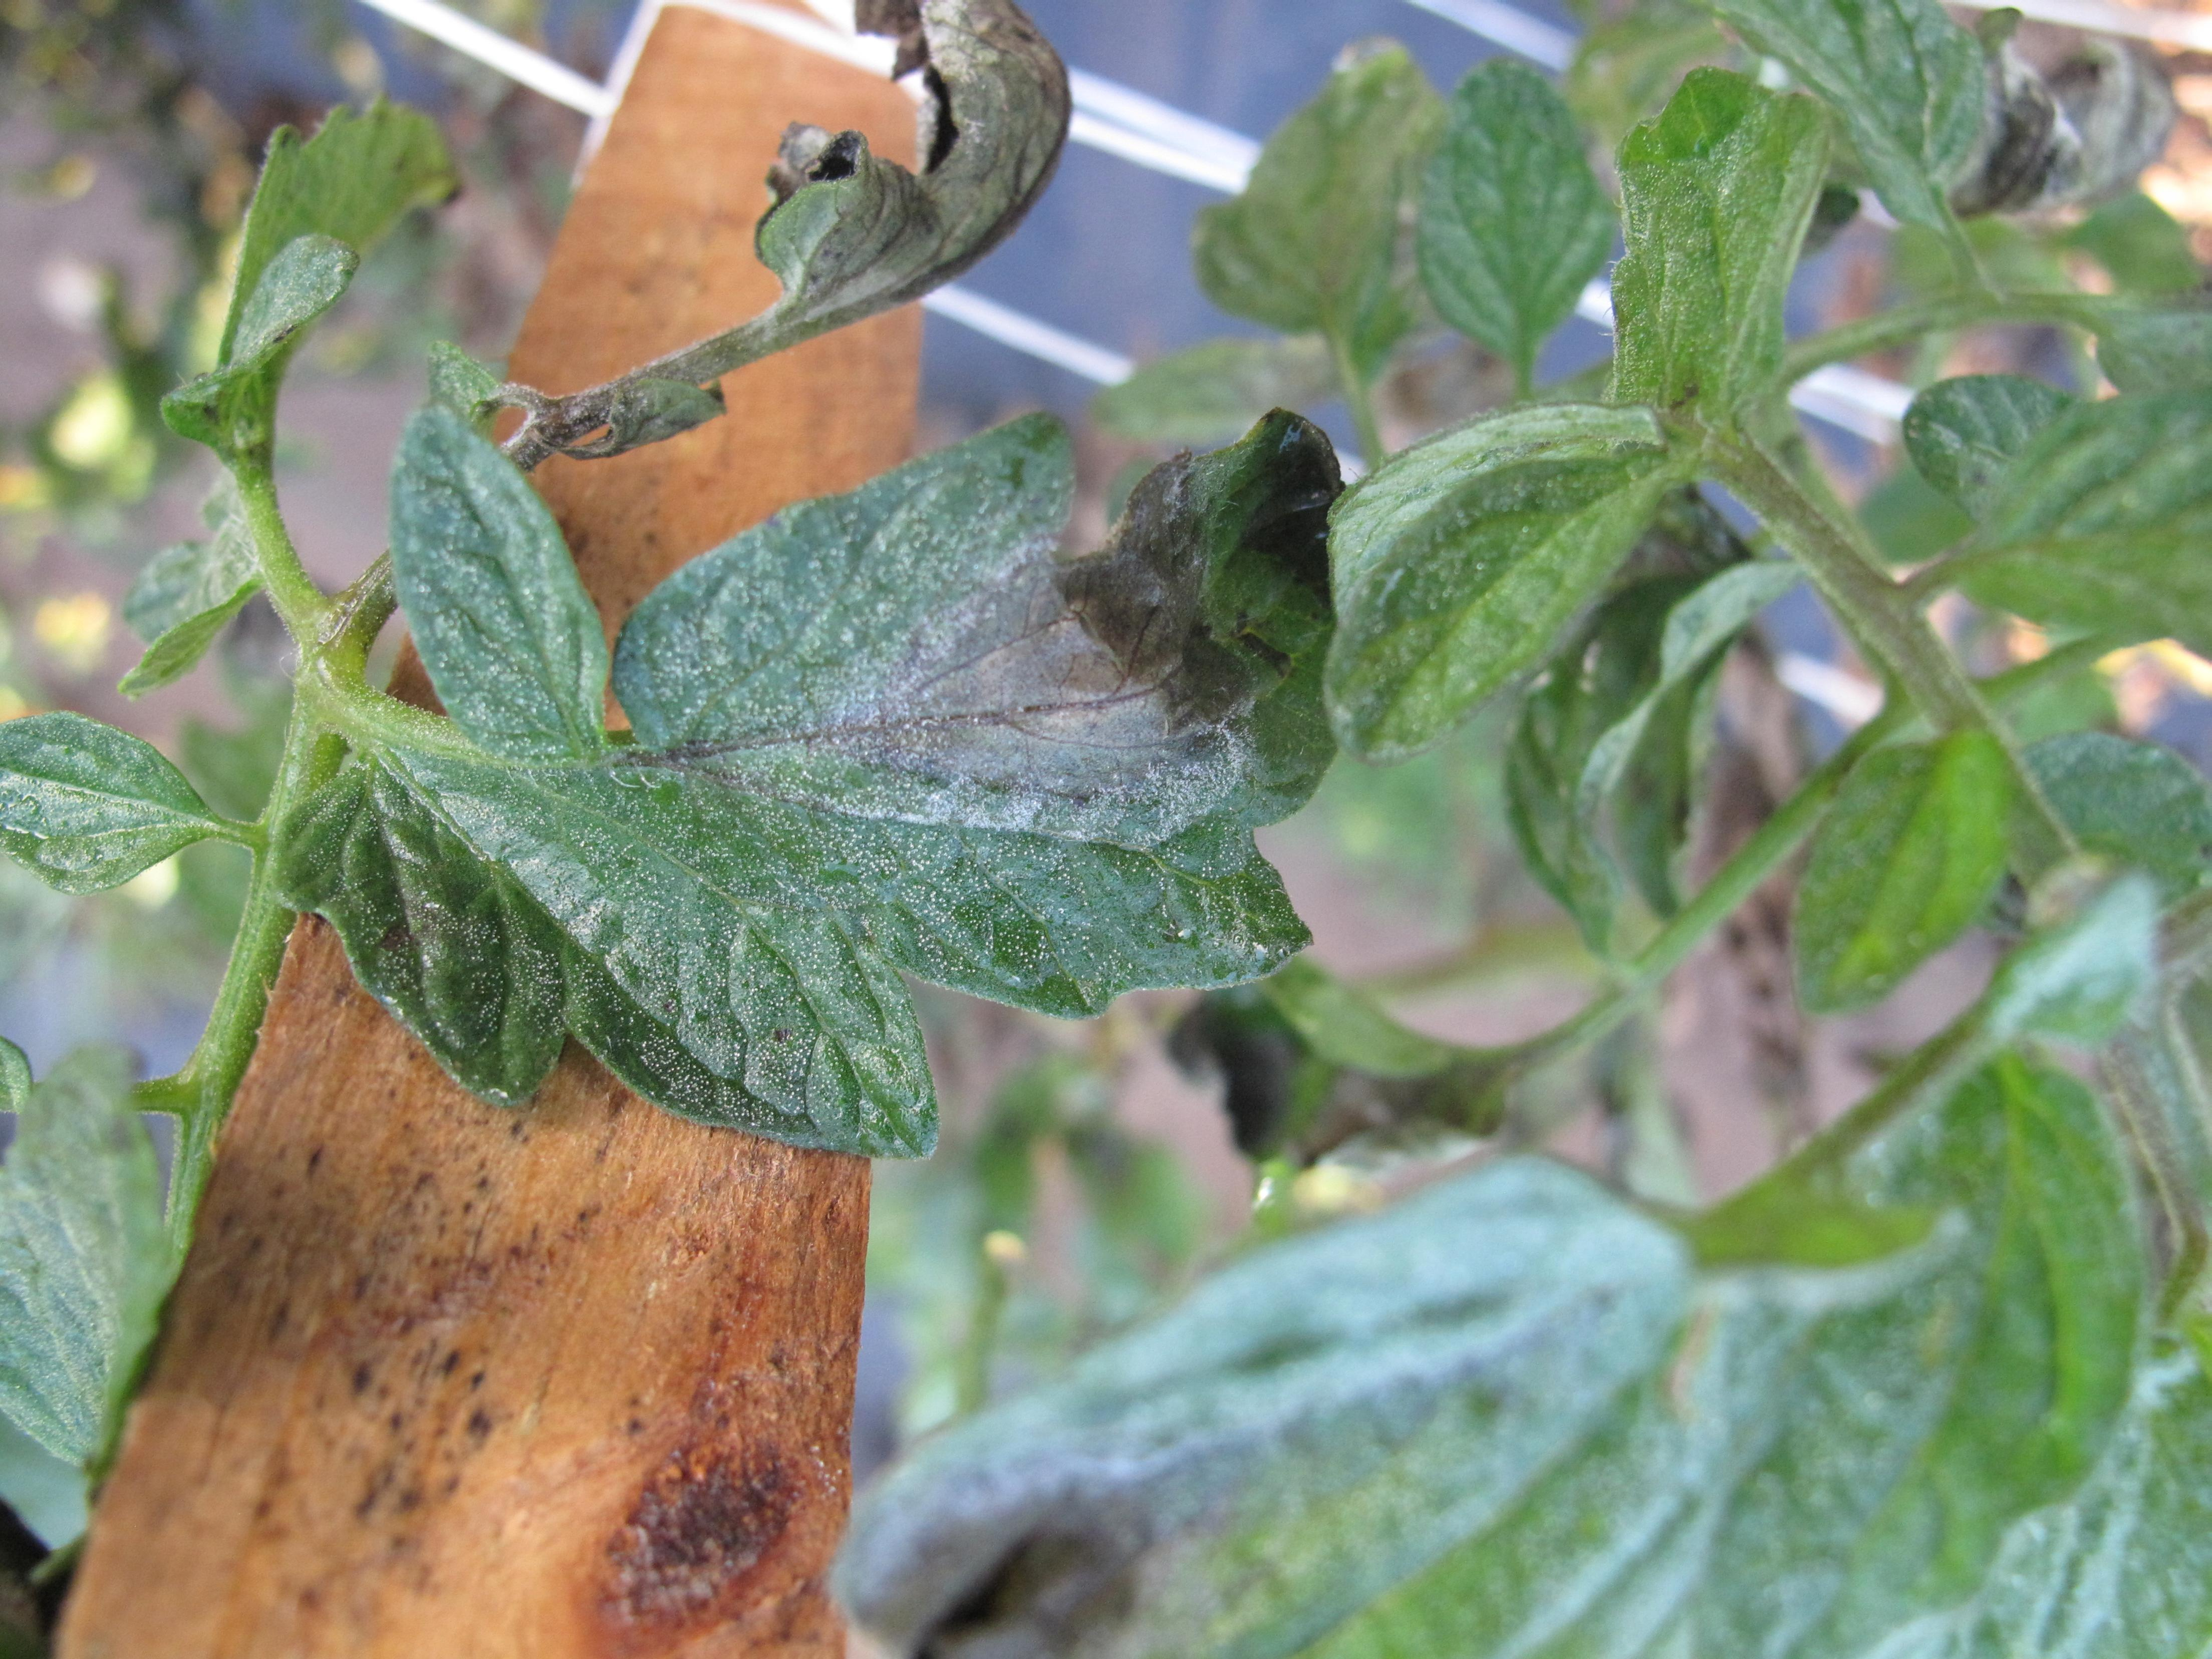Tomato leaf late blight: (197, 307, 1487, 1176)
